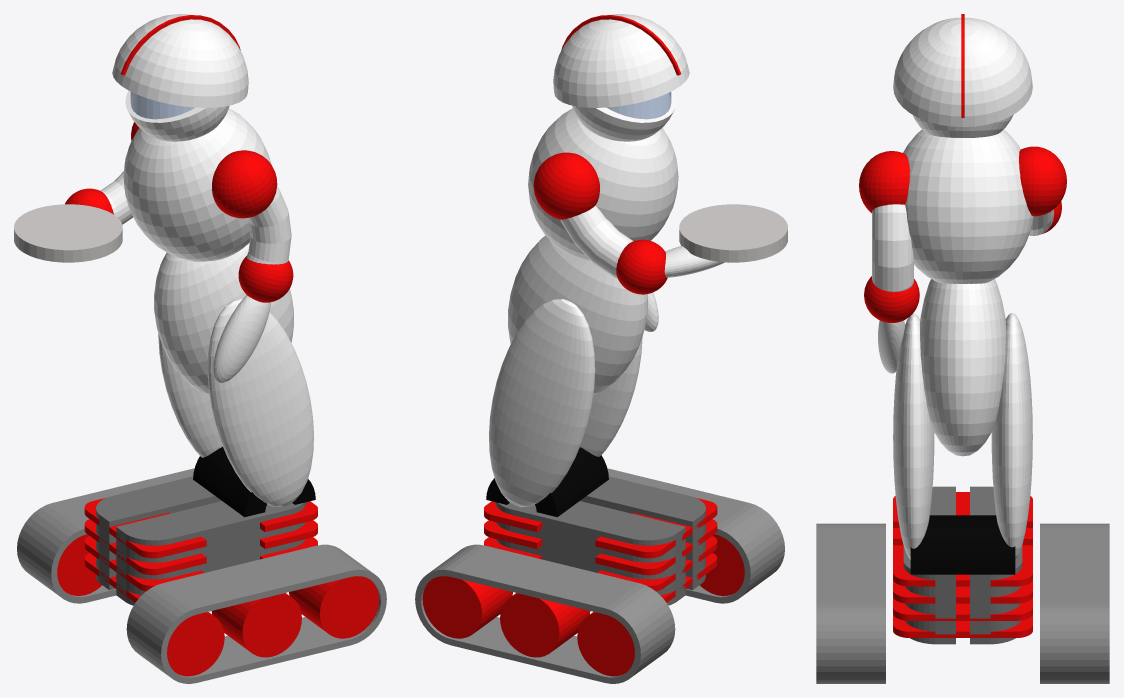
File: Robotnopohar.glb
3 renders of one model, left to right at view 1: azimuth 30°, elevation 25°; view 2: azimuth 150°, elevation 25°; view 3: azimuth 270°, elevation 25°, orthographic.
Visible parts, largest first — view 1: VisualSceneNode1.496, VisualSceneNode1.484, VisualSceneNode1.483, VisualSceneNode1.482, VisualSceneNode1.473, VisualSceneNode1.505, VisualSceneNode1.476, VisualSceneNode1.486, VisualSceneNode1.509, VisualSceneNode1.507, VisualSceneNode1.503, VisualSceneNode1.469 (+21 smaller); view 2: VisualSceneNode1.485, VisualSceneNode1.484, VisualSceneNode1.482, VisualSceneNode1.483, VisualSceneNode1.486, VisualSceneNode1.471, VisualSceneNode1.476, VisualSceneNode1.473, VisualSceneNode1.480, VisualSceneNode1.474, VisualSceneNode1.469, VisualSceneNode1.503 (+19 smaller); view 3: VisualSceneNode1.484, VisualSceneNode1.482, VisualSceneNode1.483, VisualSceneNode1.496, VisualSceneNode1.485, VisualSceneNode1.470, VisualSceneNode1.504, VisualSceneNode1.471, VisualSceneNode1.505, VisualSceneNode1.510, VisualSceneNode1.478, VisualSceneNode1.486 (+11 smaller).
Part boxes in pixels (x1=…): VisualSceneNode1.496: x1=207, y1=299, x2=313, y2=506; VisualSceneNode1.484: x1=123, y1=108, x2=271, y2=261; VisualSceneNode1.483: x1=112, y1=14, x2=248, y2=107; VisualSceneNode1.482: x1=154, y1=243, x2=293, y2=395; VisualSceneNode1.473: x1=116, y1=501, x2=306, y2=605; VisualSceneNode1.505: x1=163, y1=545, x2=351, y2=614; VisualSceneNode1.476: x1=14, y1=204, x2=122, y2=262; VisualSceneNode1.486: x1=96, y1=476, x2=221, y2=589; VisualSceneNode1.509: x1=211, y1=593, x2=301, y2=657; VisualSceneNode1.507: x1=289, y1=576, x2=379, y2=638; VisualSceneNode1.503: x1=126, y1=583, x2=196, y2=683; VisualSceneNode1.469: x1=17, y1=503, x2=86, y2=603; VisualSceneNode1.485: x1=489, y1=299, x2=595, y2=507; VisualSceneNode1.484: x1=528, y1=108, x2=678, y2=260; VisualSceneNode1.482: x1=508, y1=235, x2=647, y2=395; VisualSceneNode1.483: x1=553, y1=14, x2=689, y2=107; VisualSceneNode1.486: x1=495, y1=501, x2=685, y2=605; VisualSceneNode1.471: x1=450, y1=545, x2=638, y2=614; VisualSceneNode1.476: x1=679, y1=204, x2=787, y2=262; VisualSceneNode1.473: x1=580, y1=476, x2=705, y2=589; VisualSceneNode1.480: x1=500, y1=593, x2=590, y2=657; VisualSceneNode1.474: x1=422, y1=576, x2=512, y2=638; VisualSceneNode1.469: x1=605, y1=583, x2=675, y2=683; VisualSceneNode1.503: x1=715, y1=503, x2=784, y2=603; VisualSceneNode1.484: x1=903, y1=129, x2=1033, y2=283; VisualSceneNode1.482: x1=920, y1=279, x2=1006, y2=456; VisualSceneNode1.483: x1=893, y1=17, x2=1032, y2=127; VisualSceneNode1.496: x1=893, y1=313, x2=934, y2=559; VisualSceneNode1.485: x1=991, y1=313, x2=1032, y2=559; VisualSceneNode1.470: x1=1040, y1=604, x2=1109, y2=683; VisualSceneNode1.504: x1=816, y1=604, x2=885, y2=683; VisualSceneNode1.471: x1=1040, y1=527, x2=1109, y2=604; VisualSceneNode1.505: x1=816, y1=527, x2=885, y2=604; VisualSceneNode1.510: x1=910, y1=515, x2=1015, y2=574; VisualSceneNode1.478: x1=872, y1=204, x2=913, y2=292; VisualSceneNode1.486: x1=970, y1=486, x2=1022, y2=644.
Bounding box in the file's own units: 0.9875 × 1.93 × 0.84.
